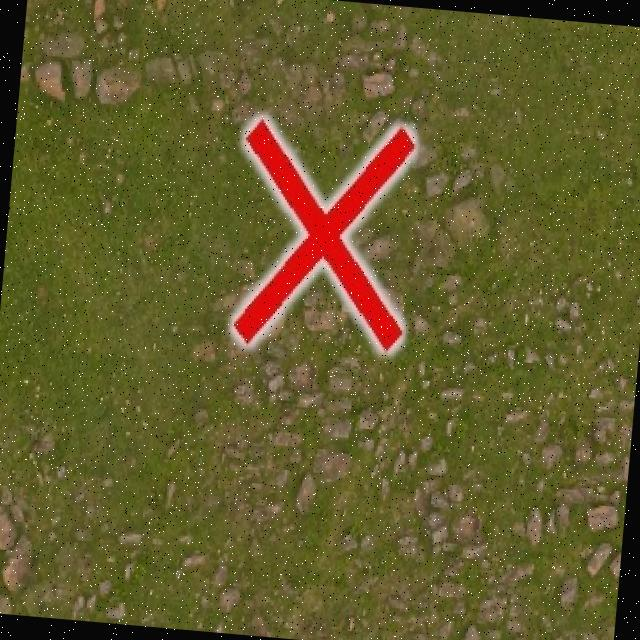x_marker: (227, 114, 418, 355)
